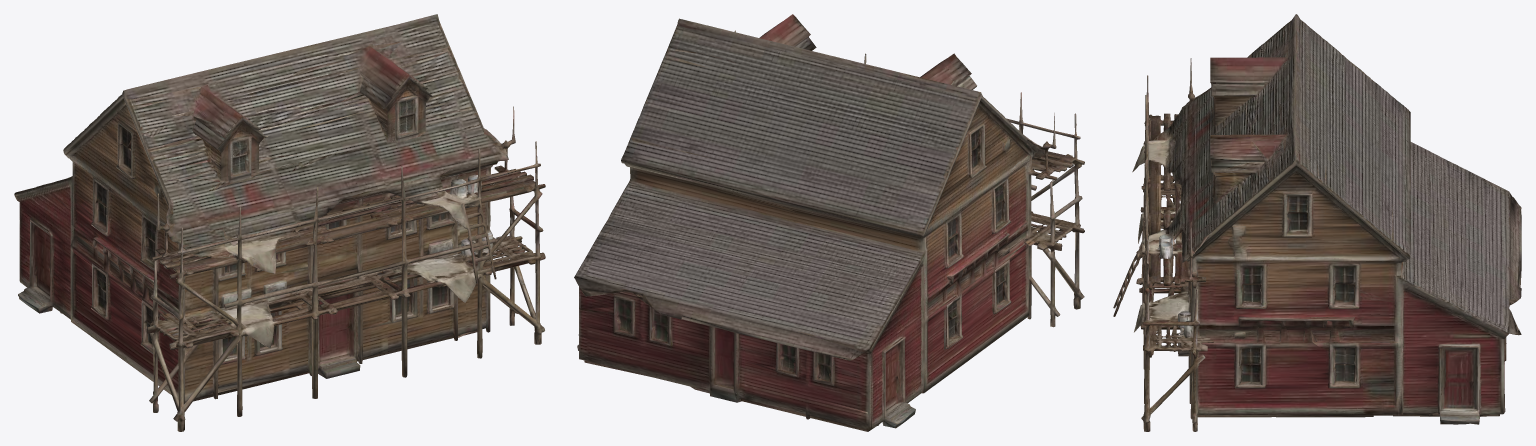
The model's file is bldg-scaffold.glb.
3 views of the same model, side by side, from view 1: azimuth 30°, elevation 25°; view 2: azimuth 150°, elevation 25°; view 3: azimuth 270°, elevation 25° (orthographic). The views are drawn at different scales.
Parts seen in each view (by area): view 1: Mesh_0; view 2: Mesh_0; view 3: Mesh_0.
Boxes of the visible parts, left/top/right/bottom form: Mesh_0: left=14, top=14, right=545, bottom=431; Mesh_0: left=574, top=14, right=1084, bottom=431; Mesh_0: left=1113, top=14, right=1521, bottom=431.
Bounding box in the file's own units: 1.9 × 1.34 × 1.9.
1 material, 1 textured.
